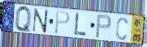C: (115, 16, 129, 41)
L: (74, 12, 88, 37)
N: (32, 7, 50, 34)
P: (95, 14, 113, 40), (54, 10, 71, 35)
Q: (15, 5, 32, 35)
